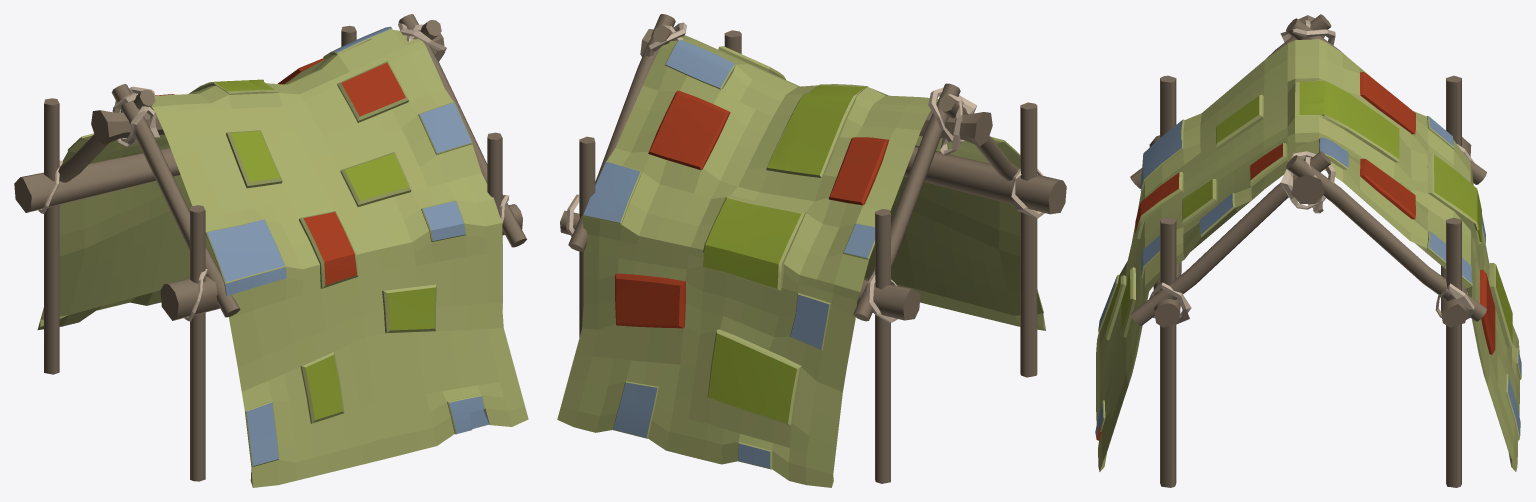
File: Tint.fbx
The picture shows the model from 3 angles, left to right: view 1: azimuth 30°, elevation 25°; view 2: azimuth 150°, elevation 25°; view 3: azimuth 270°, elevation 25°; orthographic projection. The views are drawn at different scales.
Visible parts, largest first — view 1: pTorus9; view 2: pTorus9; view 3: pTorus9.
Part boxes in pixels (x1,y1,x2,y2): pTorus9: [14, 14, 528, 487]; pTorus9: [557, 14, 1066, 487]; pTorus9: [1095, 14, 1521, 487].
Size of the model in its own units: 10.78 by 9.99 by 11.72.
